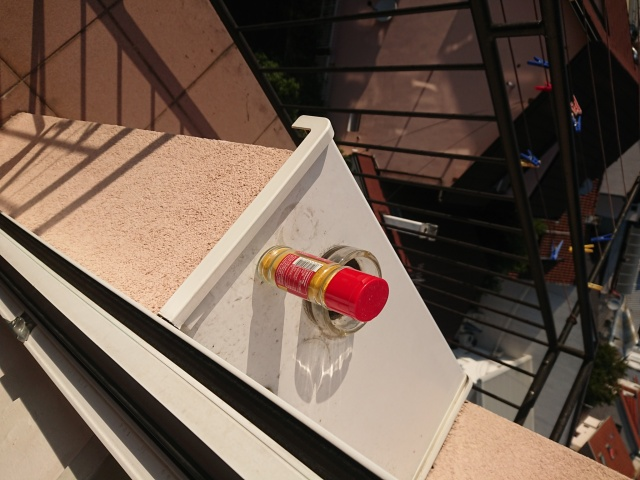Kotanyi Curry Spices Mix 70g: (255, 243, 391, 324)
